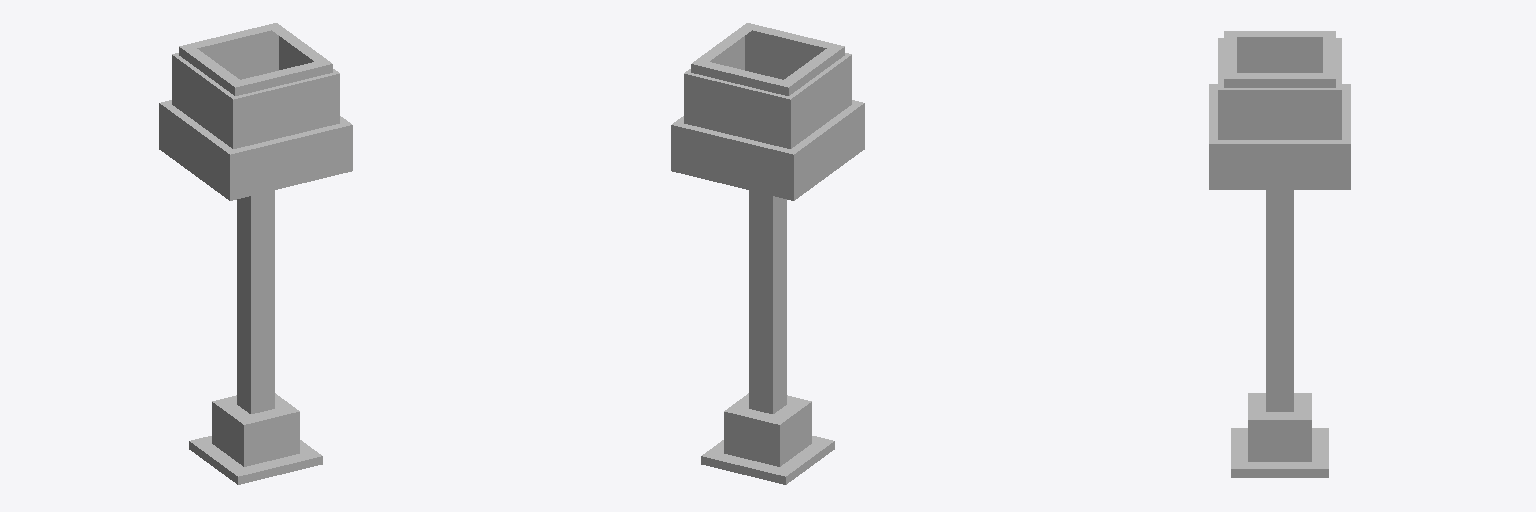
Rendered from lampl.obj.
The picture shows the model from 3 angles: view 1: azimuth 30°, elevation 25°; view 2: azimuth 150°, elevation 25°; view 3: azimuth 270°, elevation 25°; orthographic projection.
Visible parts, largest first — view 1: Object001; view 2: Object001; view 3: Object001.
Part boxes in pixels (x1,y1,x2,y2): Object001: (159,23,352,484); Object001: (671,23,864,484); Object001: (1209,31,1350,477).
Size of the model in its own units: 9.58 by 29.96 by 9.58.